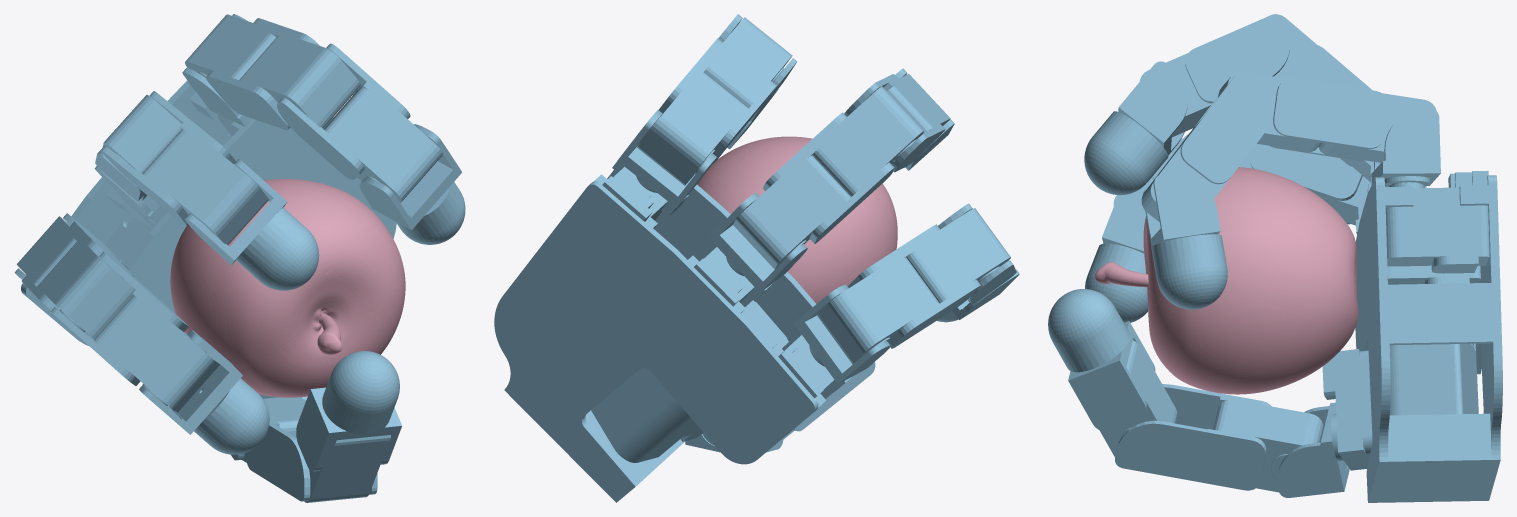
The picture shows the model from 3 angles, left to right: view 1: azimuth 30°, elevation 25°; view 2: azimuth 150°, elevation 25°; view 3: azimuth 270°, elevation 25°; orthographic projection. The views are drawn at different scales.
Visible parts, largest first — view 1: world, apple.stl; view 2: world, apple.stl; view 3: world, apple.stl.
Part boxes in pixels (x1,y1,x2,y2): world: (14,14,465,502); apple.stl: (170,179,405,397); world: (494,14,1019,502); apple.stl: (697,136,897,303); world: (1048,14,1502,502); apple.stl: (1095,167,1358,394).
Bounding box in the file's own units: 0.1631 × 0.1583 × 0.1526.
